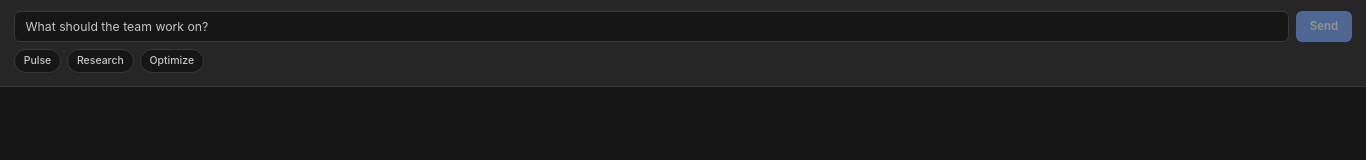
ChatBar — message dispatch › shows error when sendMessage fails
Type "Test" into the field with test id "chat-input" at (651, 26), box [14, 10, 1289, 42]
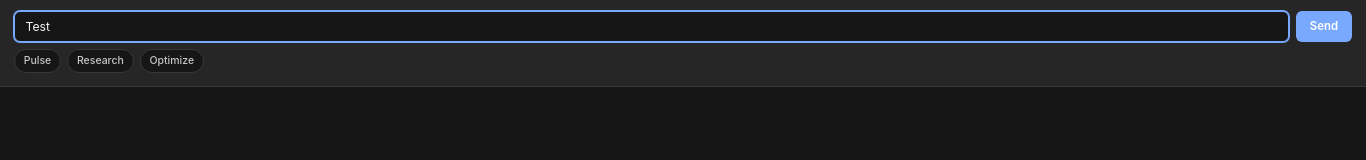
Click the button with test id "send-button" at (1324, 26), box [1296, 10, 1352, 42]
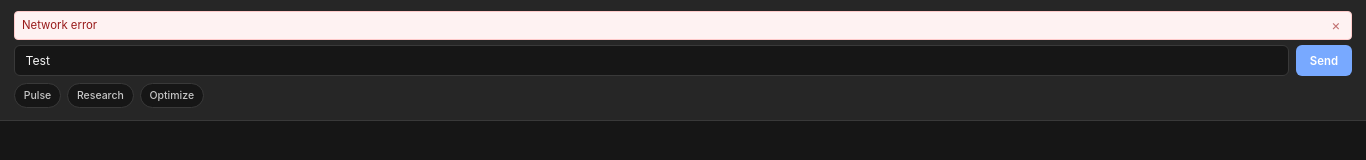
Now the message "Network error ×" is shown, box [14, 10, 1352, 40]
Now the text "Network error" is shown, box [22, 18, 97, 32]
